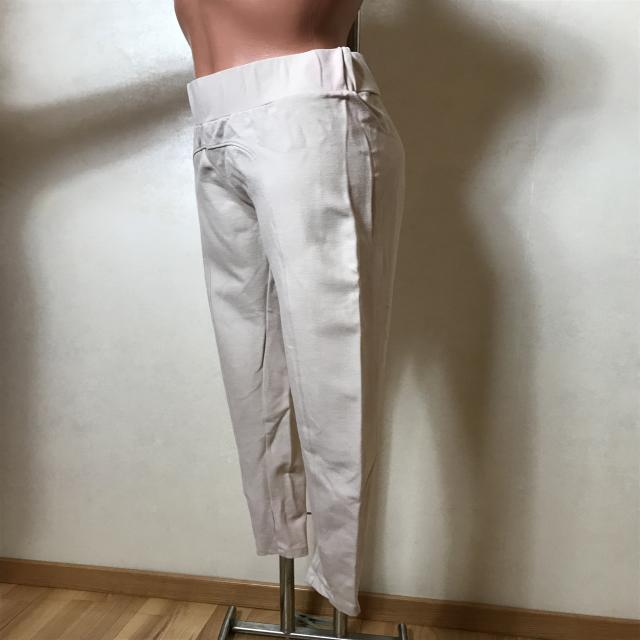long-pants: (185, 47, 406, 617)
